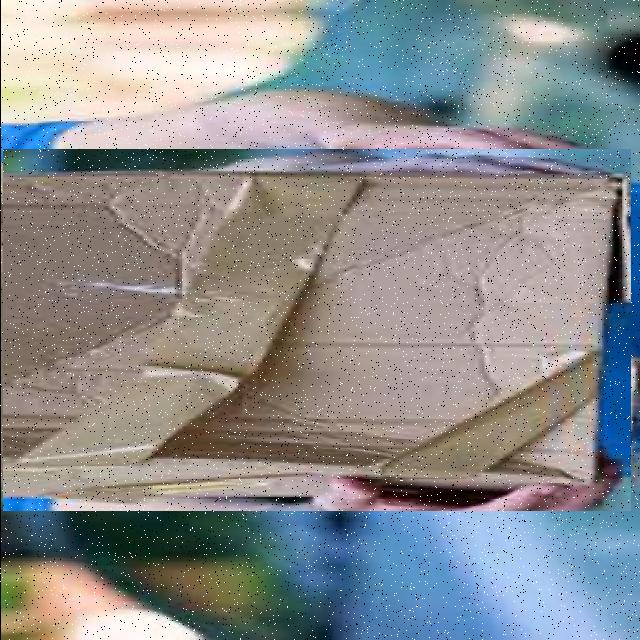defect: (2, 149, 630, 511)
